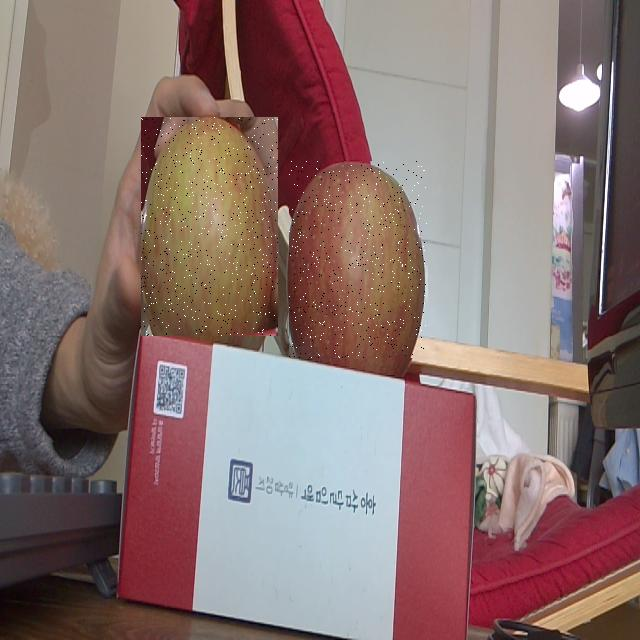apple: (141, 117, 278, 336), (290, 161, 428, 358)
